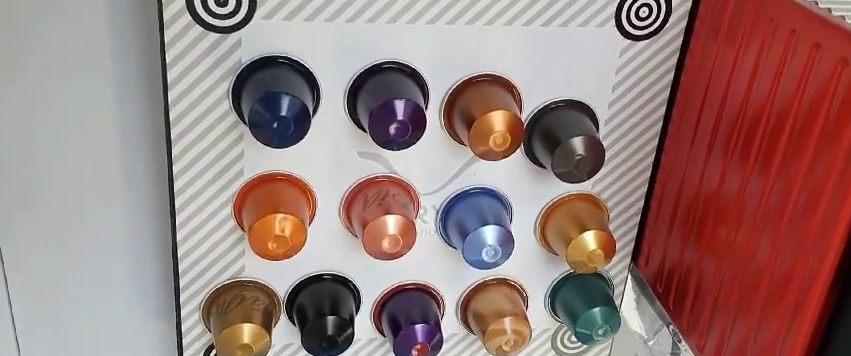capsule_1: (227, 53, 323, 151)
capsule_10: (280, 272, 362, 356)
capsule_11: (368, 280, 448, 356)
capsule_12: (453, 276, 532, 356)
capsule_13: (538, 264, 623, 349)
capsule_2: (345, 61, 434, 151)
capsule_3: (441, 71, 526, 161)
capsule_4: (522, 95, 607, 186)
capsule_5: (229, 167, 319, 263)
capsule_6: (338, 173, 423, 264)
capsule_7: (436, 185, 518, 271)
capsule_8: (536, 191, 619, 273)
capsule_9: (198, 278, 283, 356)
